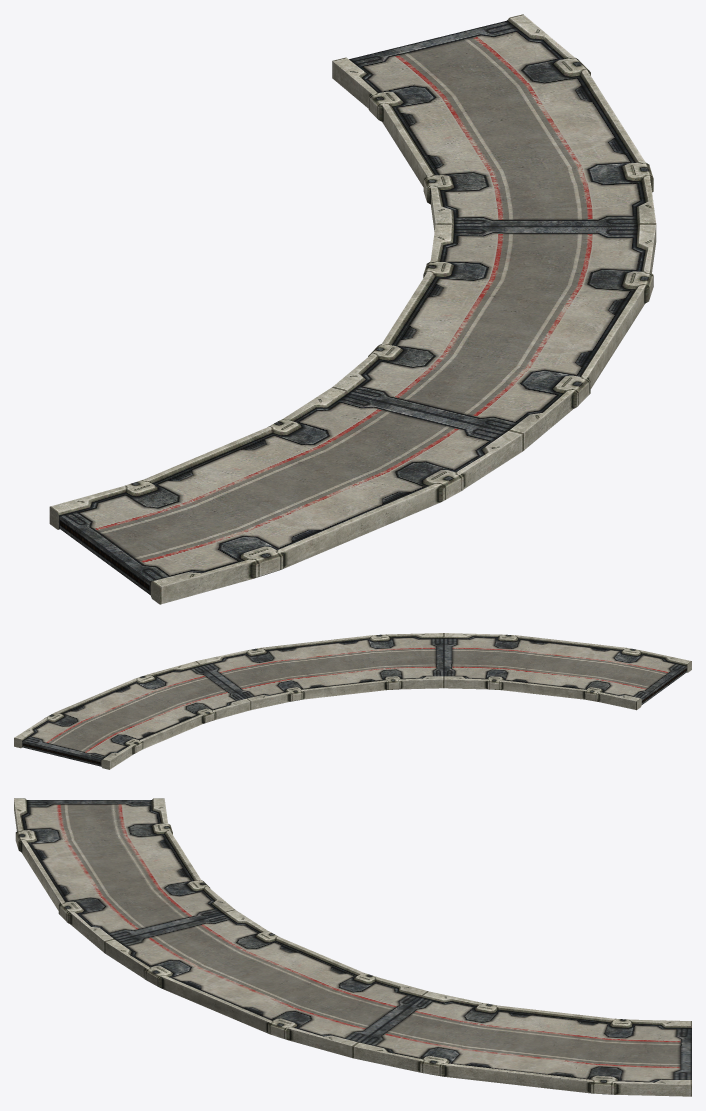
Rendered from catwalk_white_turn_90_nohandrail.dae.
3 views of the same model, one above another, from view 1: azimuth 30°, elevation 25°; view 2: azimuth 150°, elevation 25°; view 3: azimuth 270°, elevation 25° (orthographic). The views are drawn at different scales.
Parts seen in each view (by area): view 1: polySurface5; view 2: polySurface5; view 3: polySurface5.
Part boxes in pixels (left/top/right/bottom): polySurface5: left=49, top=14, right=656, bottom=604; polySurface5: left=14, top=633, right=691, bottom=769; polySurface5: left=14, top=798, right=691, bottom=1096.
Size of the model in its own units: 9 by 0.1745 by 9.
